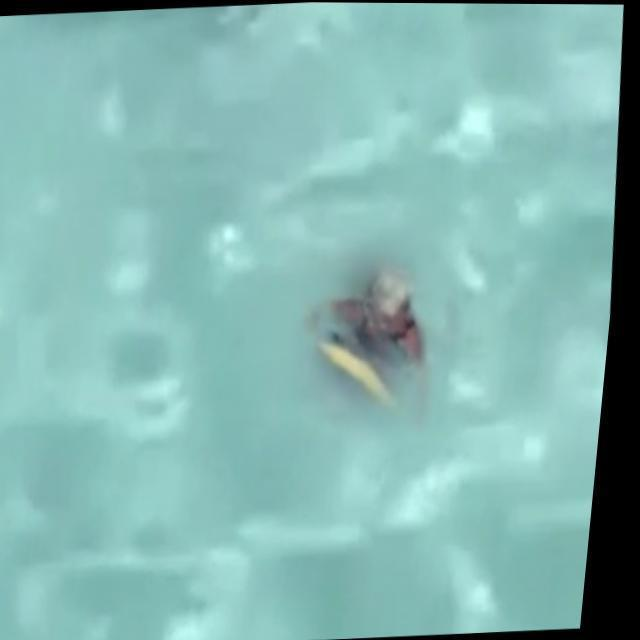swimming: (276, 237, 450, 407)
